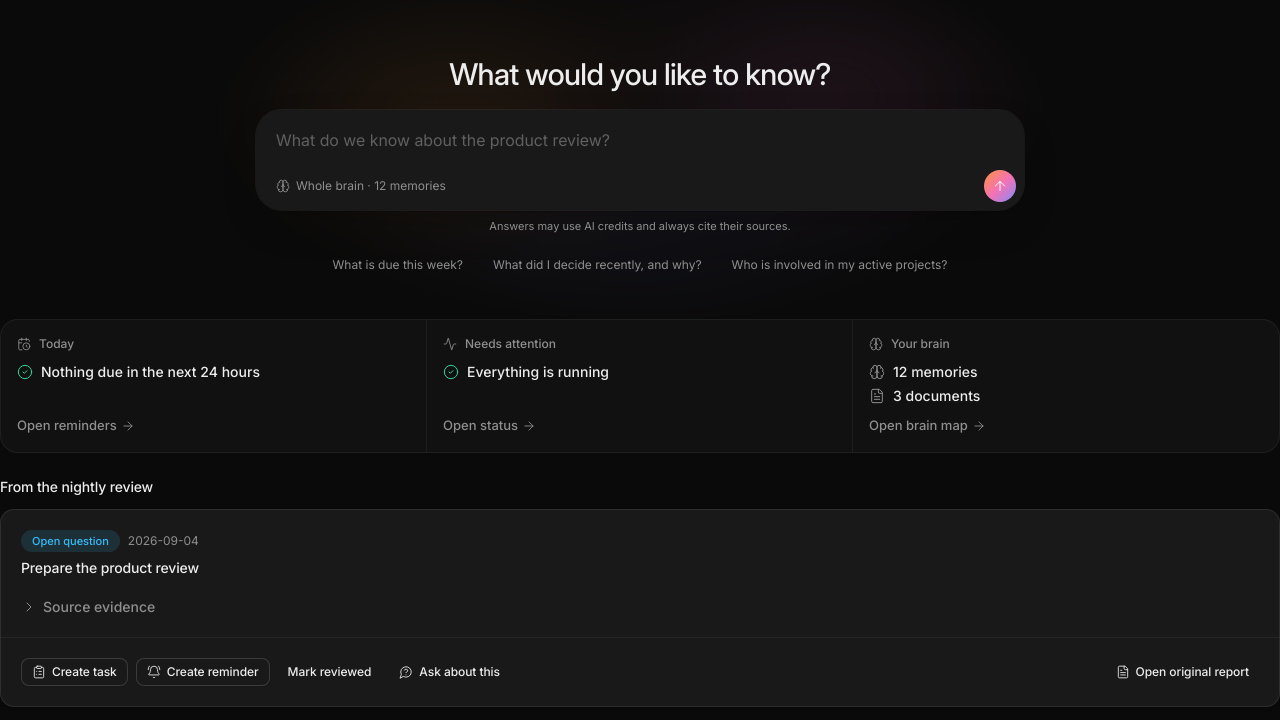
Test case: turns a nightly insight into a task only after explicit confirmation with the chosen destination
The image size is (1280, 720).
Click the button "Create task". click: [74, 672]
box: 21,658 -> 128,686
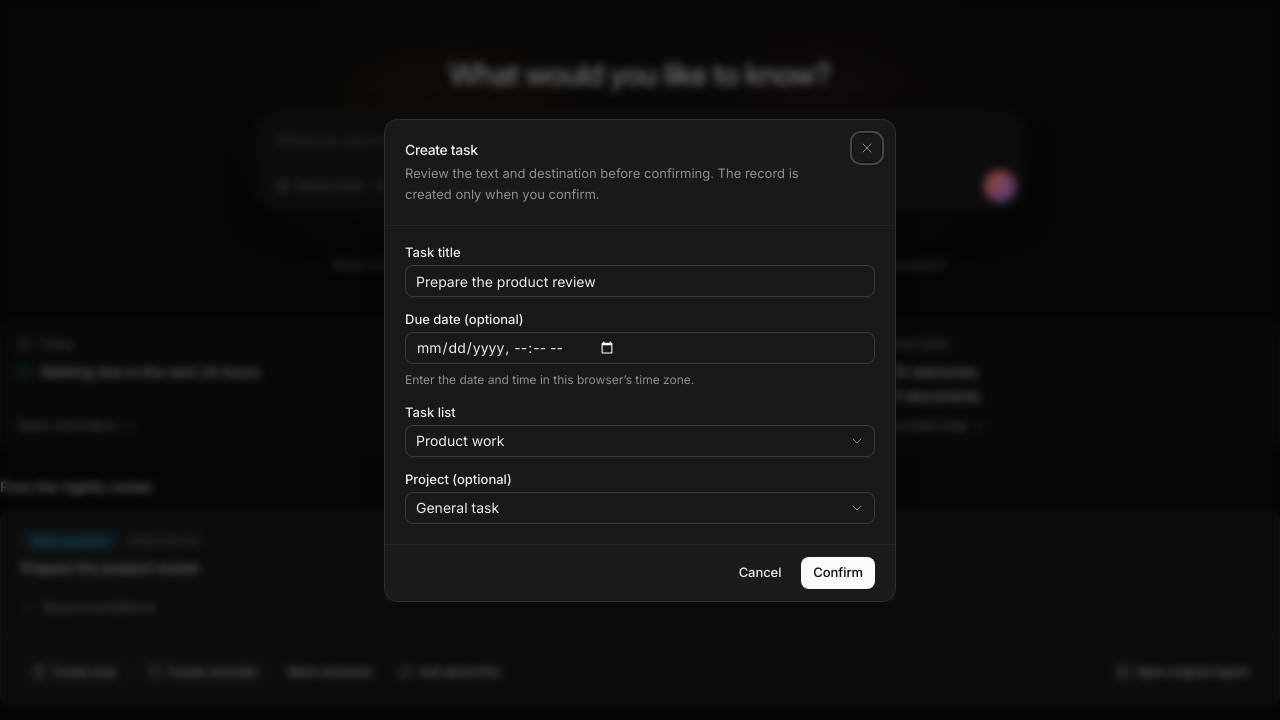
Click the button "Confirm". click: [838, 572]
box: 801,556 -> 875,588
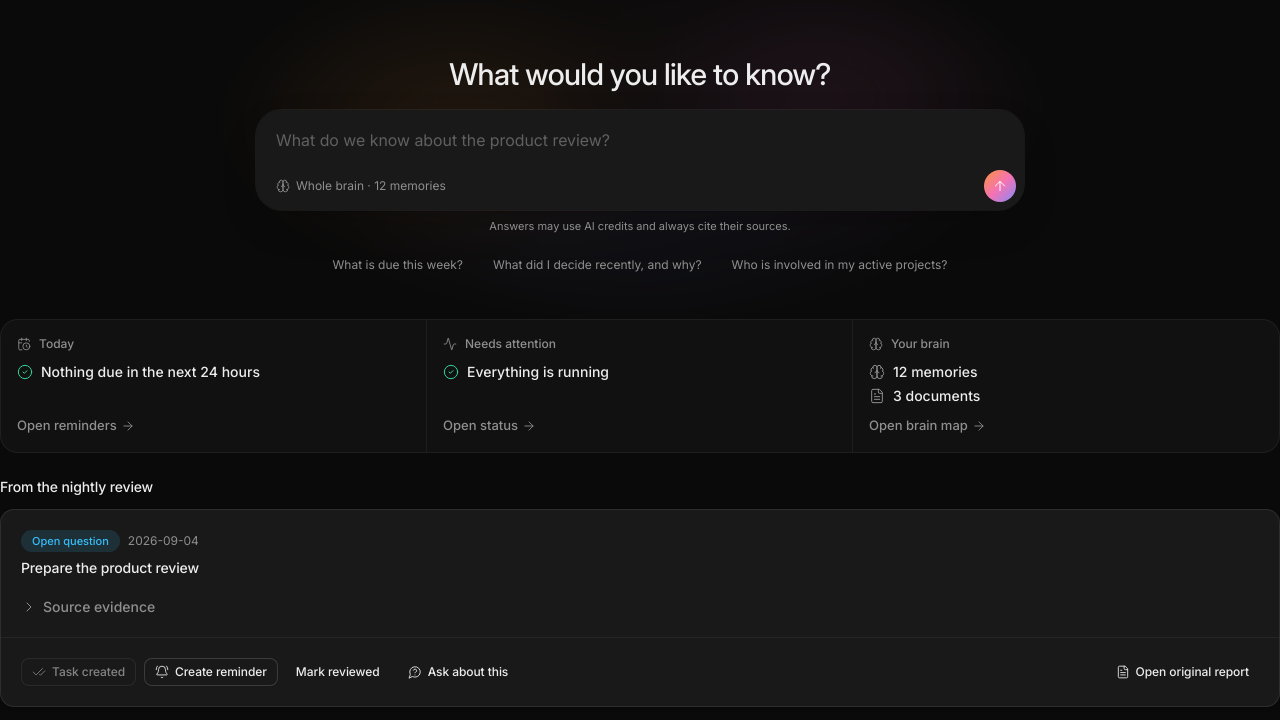
expect the button "Task created" is disabled: met, box 21,658 -> 136,686
